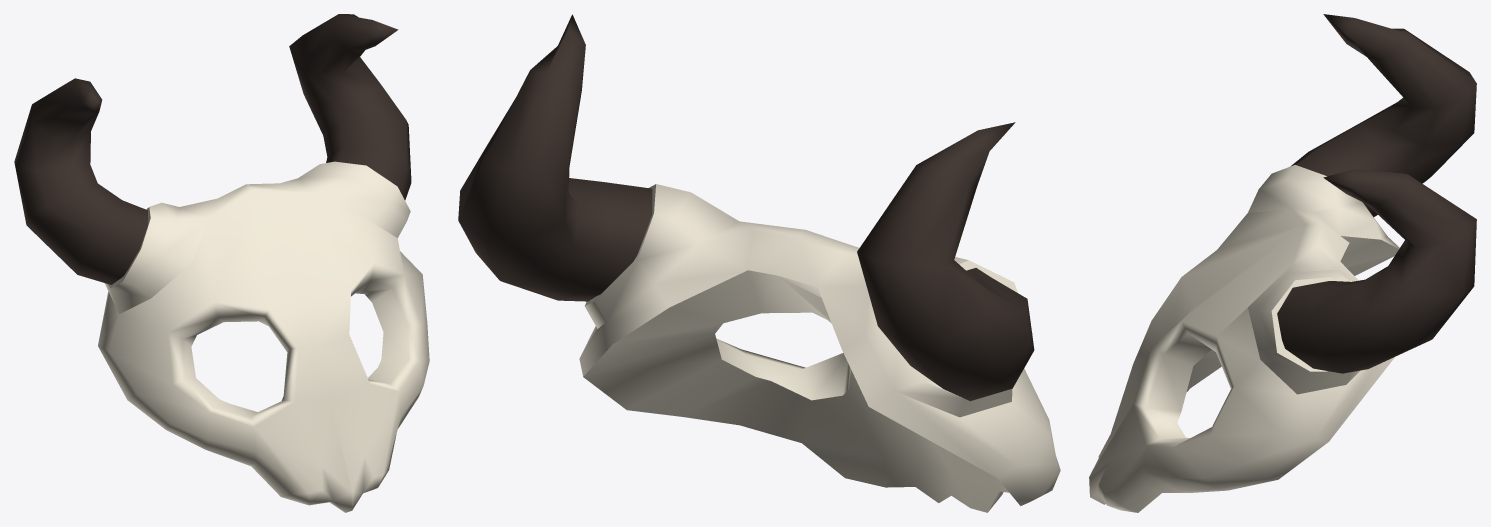
The model's file is Eyewear_19.fbx.
3 renders of one model, left to right at view 1: azimuth 30°, elevation 25°; view 2: azimuth 150°, elevation 25°; view 3: azimuth 270°, elevation 25°, orthographic. The views are drawn at different scales.
Visible parts, largest first — view 1: Eyewear_19; view 2: Eyewear_19; view 3: Eyewear_19.
Boxes of the visible parts, left/top/right/bottom form: Eyewear_19: left=14, top=14, right=429, bottom=512; Eyewear_19: left=458, top=14, right=1060, bottom=512; Eyewear_19: left=1089, top=14, right=1476, bottom=512.
Size of the model in its own units: 88.71 by 83.76 by 71.55.
